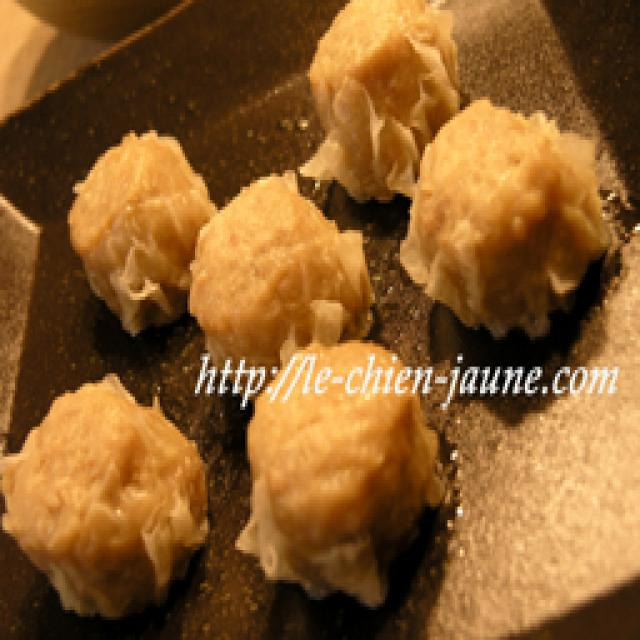带馅早点: (0, 0, 640, 350)
